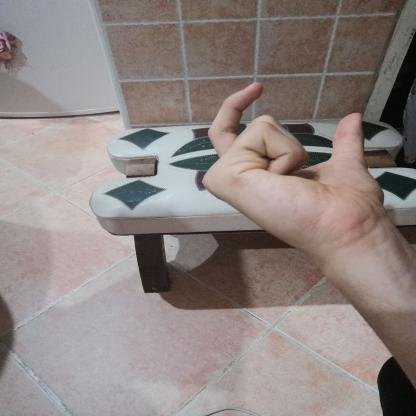NOON: (181, 72, 400, 264)
